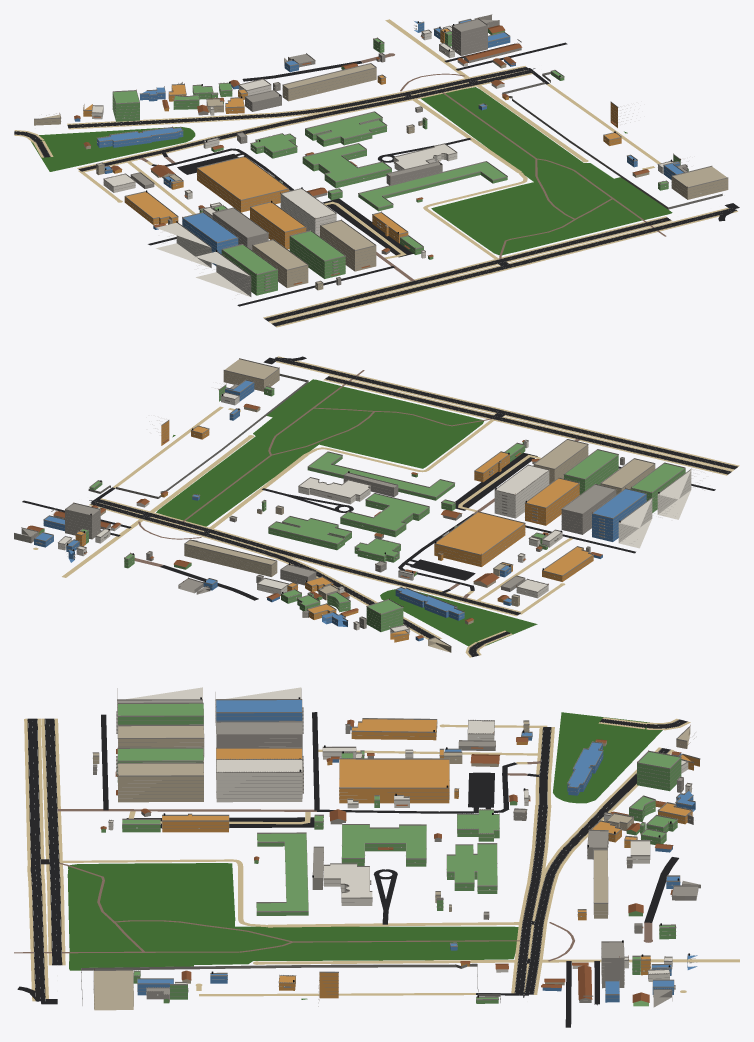
Rendered from zone_t5_0.glb.
3 views of the same model, one above another, from view 1: azimuth 30°, elevation 25°; view 2: azimuth 150°, elevation 25°; view 3: azimuth 270°, elevation 25° (orthographic). The views are drawn at different scales.
Visible parts, largest first — view 1: zone_herbe_t5_0, bld_peinture_vert_t5_0-col, route_primary_bitume_t5_0, parapet_t5_0, bld_peinture_ocre_t5_0-col, bld_peinture_ecaillee_t5_0-col, bld_peinture_blanc_t5_0-col, accotement_t5_0, bld_beton_t5_0-col, bld_peinture_bleu_t5_0-col, bandeau_t5_0, route_service_terre_t5_0 (+5 smaller); view 2: zone_herbe_t5_0, bld_peinture_vert_t5_0-col, parapet_t5_0, bld_peinture_ocre_t5_0-col, route_primary_bitume_t5_0, bld_peinture_blanc_t5_0-col, accotement_t5_0, bld_peinture_ecaillee_t5_0-col, bld_beton_t5_0-col, bld_peinture_bleu_t5_0-col, bandeau_t5_0, route_service_terre_t5_0 (+5 smaller); view 3: zone_herbe_t5_0, bld_peinture_vert_t5_0-col, route_primary_bitume_t5_0, bld_peinture_ocre_t5_0-col, parapet_t5_0, bld_peinture_blanc_t5_0-col, bld_peinture_ecaillee_t5_0-col, accotement_t5_0, bld_beton_t5_0-col, bld_peinture_bleu_t5_0-col, route_service_terre_t5_0, bandeau_t5_0 (+9 smaller).
Part boxes in pixels (<box>): zone_herbe_t5_0: <box>31,87,672,255</box>; bld_peinture_vert_t5_0-col: <box>112,30,688,295</box>; route_primary_bitume_t5_0: <box>14,67,739,326</box>; parapet_t5_0: <box>34,14,728,284</box>; bld_peinture_ocre_t5_0-col: <box>83,29,621,249</box>; bld_peinture_ecaillee_t5_0-col: <box>34,60,728,290</box>; bld_peinture_blanc_t5_0-col: <box>92,26,672,296</box>; accotement_t5_0: <box>14,66,737,327</box>; bld_beton_t5_0-col: <box>130,15,687,285</box>; bld_peinture_bleu_t5_0-col: <box>74,20,683,265</box>; bandeau_t5_0: <box>36,18,727,295</box>; route_service_terre_t5_0: <box>78,83,660,259</box>; zone_herbe_t5_0: <box>156,379,537,646</box>; bld_peinture_vert_t5_0-col: <box>38,385,685,631</box>; parapet_t5_0: <box>14,358,692,646</box>; bld_peinture_ocre_t5_0-col: <box>75,421,593,642</box>; route_primary_bitume_t5_0: <box>89,357,737,656</box>; bld_peinture_blanc_t5_0-col: <box>58,393,691,635</box>; accotement_t5_0: <box>89,356,739,657</box>; bld_peinture_ecaillee_t5_0-col: <box>100,359,655,652</box>; bld_beton_t5_0-col: <box>14,384,624,628</box>; bld_peinture_bleu_t5_0-col: <box>34,380,646,641</box>; bandeau_t5_0: <box>14,372,704,648</box>; route_service_terre_t5_0: <box>33,406,572,614</box>; zone_herbe_t5_0: <box>67,712,662,999</box>; bld_peinture_vert_t5_0-col: <box>101,703,681,1006</box>; route_primary_bitume_t5_0: <box>27,718,687,1004</box>; bld_peinture_ocre_t5_0-col: <box>162,719,699,998</box>; parapet_t5_0: <box>92,688,700,1000</box>; bld_peinture_blanc_t5_0-col: <box>108,687,691,983</box>; bld_peinture_ecaillee_t5_0-col: <box>93,721,690,1010</box>; accotement_t5_0: <box>24,717,690,1001</box>; bld_beton_t5_0-col: <box>93,722,700,1007</box>; bld_peinture_bleu_t5_0-col: <box>137,700,697,1002</box>; route_service_terre_t5_0: <box>59,724,686,996</box>; bandeau_t5_0: <box>93,692,699,1006</box>.
Size of the model in its own units: 556 by 26 by 540.
